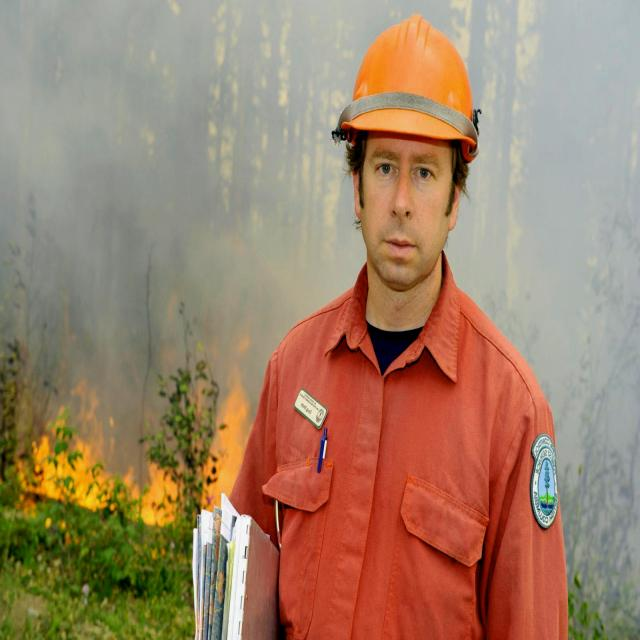face_nomask: (365, 142, 453, 290)
head_helmet: (323, 15, 491, 146)
person: (194, 7, 574, 640)
